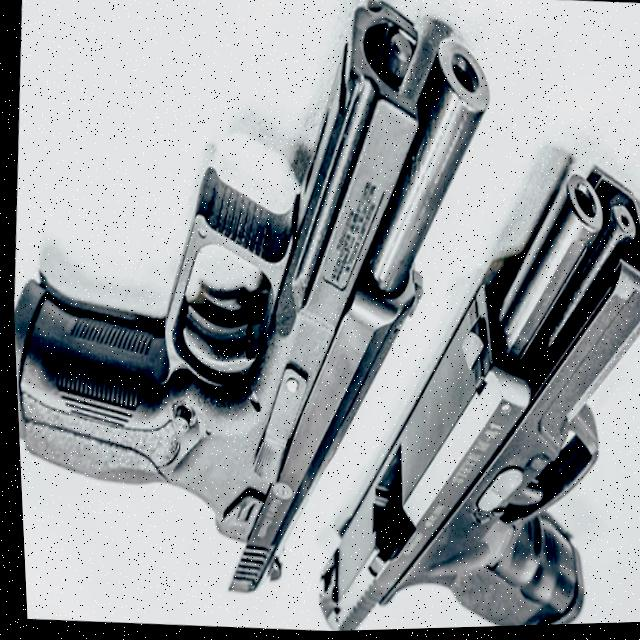pistol: (0, 0, 512, 617), (294, 151, 640, 633)
